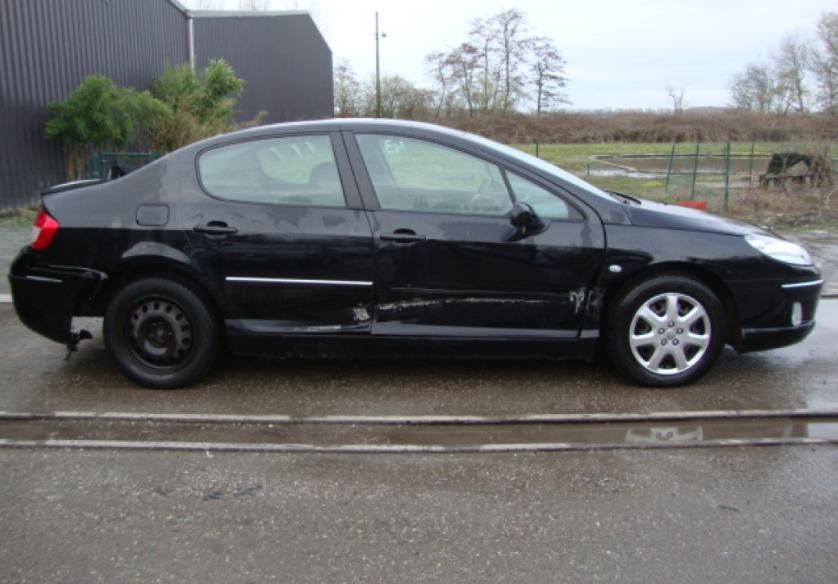Back-bumper: (9, 247, 111, 336)
Back-door: (179, 126, 375, 336)
Back-wheel: (102, 278, 214, 389)
Back-window: (196, 134, 347, 208)
Fender: (577, 225, 821, 339)
Front-bumper: (720, 278, 824, 353)
Front-door: (342, 123, 606, 339)
Front-wheel: (613, 276, 727, 388)
Front-window: (353, 133, 585, 221)
Headlight: (744, 235, 812, 266)
Hood: (606, 192, 785, 240)
Mirror: (506, 202, 549, 241)
Quarter-panel: (31, 173, 241, 336)
Rocker-panel: (230, 334, 601, 359)
Tail-light: (31, 210, 58, 250)
